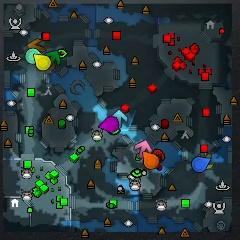p1: (192, 157, 210, 174)
p2: (26, 49, 42, 65)
p3: (99, 116, 119, 132)
p4: (33, 54, 51, 71)
p5: (143, 152, 159, 170)
x1: (134, 140, 152, 157)
x2: (198, 153, 213, 169)
x3: (113, 110, 128, 128)
x4: (46, 50, 61, 65)
x5: (27, 38, 46, 52)
